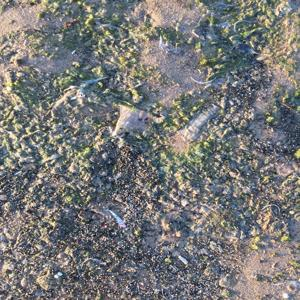plastic: (186, 72, 220, 92), (107, 206, 130, 232), (78, 255, 110, 269), (81, 78, 111, 88)
